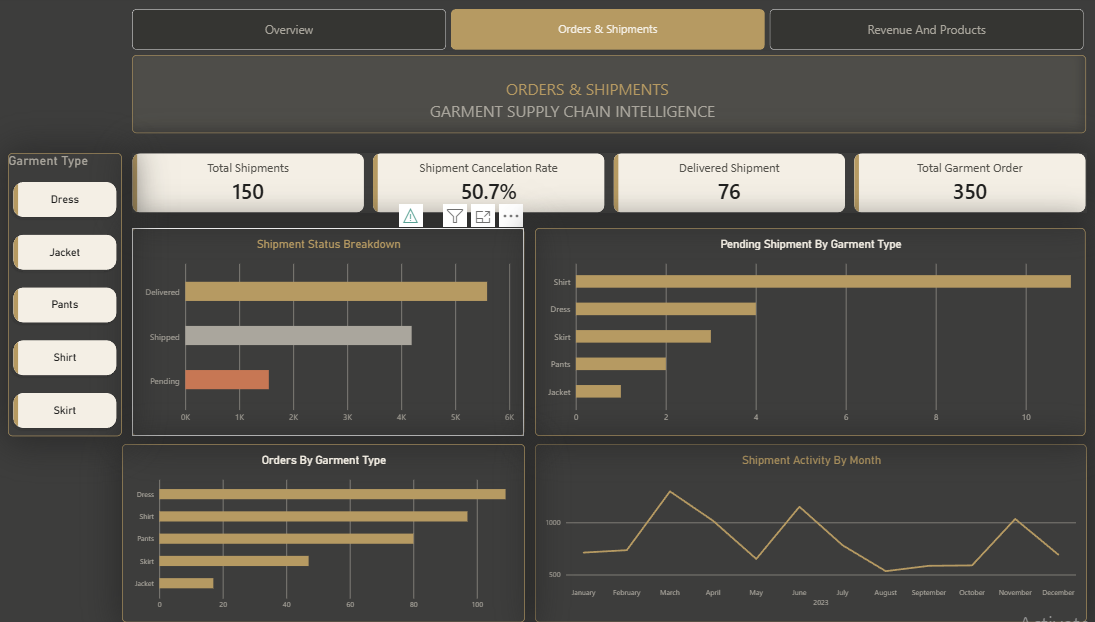

What the dashboard file says about the page in this screenshot:
{"tool":"powerbi","page":{"name":"Orders & Shipments","canvas":[1920,1080],"ordinal":1},"visuals":[{"type":"shape","box":[229.8,97.1,1610,132],"z":0},{"type":"textbox","box":[845.7,136,378.6,80.3],"z":1000},{"type":"cardVisual","fields":{"Data":["Shipments.Total Shipments","Shipments.Shipment Cancelation Rate","Shipments.Delivered Shipment","Garments.Total Garment Order"]},"box":[229.8,263.5,1610.9,101.1],"z":2000},{"type":"clusteredBarChart","title":"Shipment Status Breakdown","fields":{"Category":["Shipments.status"],"Y":["Sum(Shipments.id)"]},"box":[229.8,390.3,661.8,350.7],"z":3000},{"type":"lineChart","title":"Shipment Activity By Month","fields":{"Category":["Shipments.shipment_date.Variation.Date Hierarchy.Year","Shipments.shipment_date.Variation.Date Hierarchy.Month"],"Y":["Sum(Shipments.id)"]},"box":[909.5,754.9,931.3,301.2],"z":4000},{"type":"clusteredBarChart","title":"Pending Shipment By Garment Type","fields":{"Category":["Garments.garment_type"],"Y":["CountNonNull(Shipments.id)"]},"box":[909.5,390.3,929.3,350.7],"z":5000},{"type":"textbox","box":[732.9,174.3,560.3,55.5],"z":5001},{"type":"clusteredBarChart","title":"Orders By Garment Type","fields":{"Category":["Garments.garment_type"],"Y":["Count(Garments.id)"]},"box":[212,754.9,679.6,301.2],"z":5002},{"type":"pageNavigator","box":[229.8,19.8,1608.9,69.3],"z":5003},{"type":"advancedSlicerVisual","title":"Garment Type","fields":{"Values":["Garments.garment_type"]},"box":[19.8,263.5,192.2,477.5],"z":5004}]}

Visuals, with their boxes in screenshot pixels (x1, y1, x2, y2), scaled from the page's 1920x1080 canvas onto the 1095x622 screenshot:
shape: left=131, top=56, right=1049, bottom=132
textbox: left=482, top=78, right=698, bottom=125
cardVisual - Shipments.Total Shipments x Shipments.Shipment Cancelation Rate: left=131, top=152, right=1050, bottom=210
"Shipment Status Breakdown" clusteredBarChart: left=131, top=225, right=508, bottom=427
"Shipment Activity By Month" lineChart: left=519, top=435, right=1050, bottom=608
"Pending Shipment By Garment Type" clusteredBarChart: left=519, top=225, right=1049, bottom=427
textbox: left=418, top=100, right=738, bottom=132
"Orders By Garment Type" clusteredBarChart: left=121, top=435, right=508, bottom=608
pageNavigator: left=131, top=11, right=1049, bottom=51
"Garment Type" advancedSlicerVisual: left=11, top=152, right=121, bottom=427
